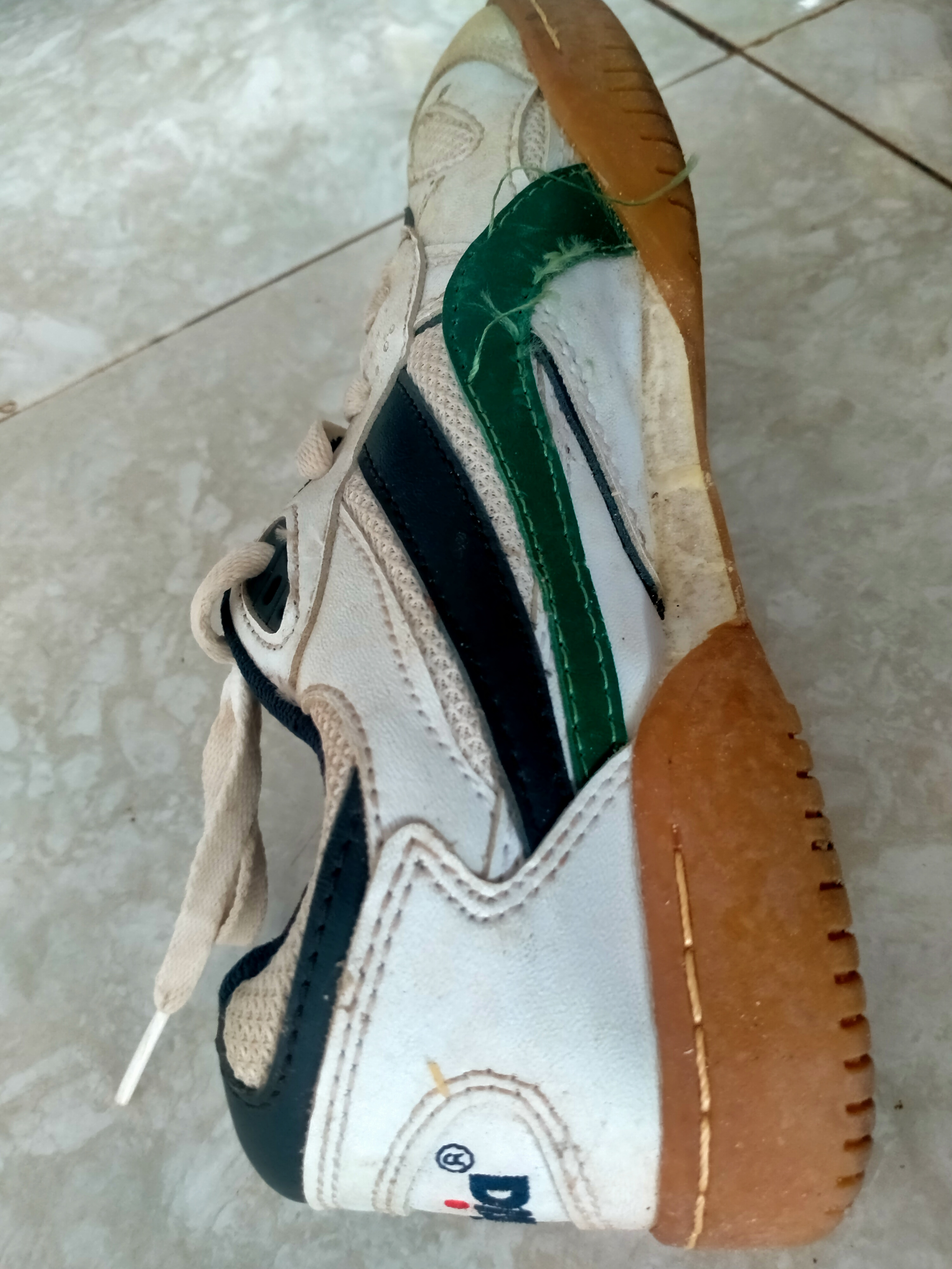broken: (446, 219, 502, 387), (516, 247, 583, 343)
